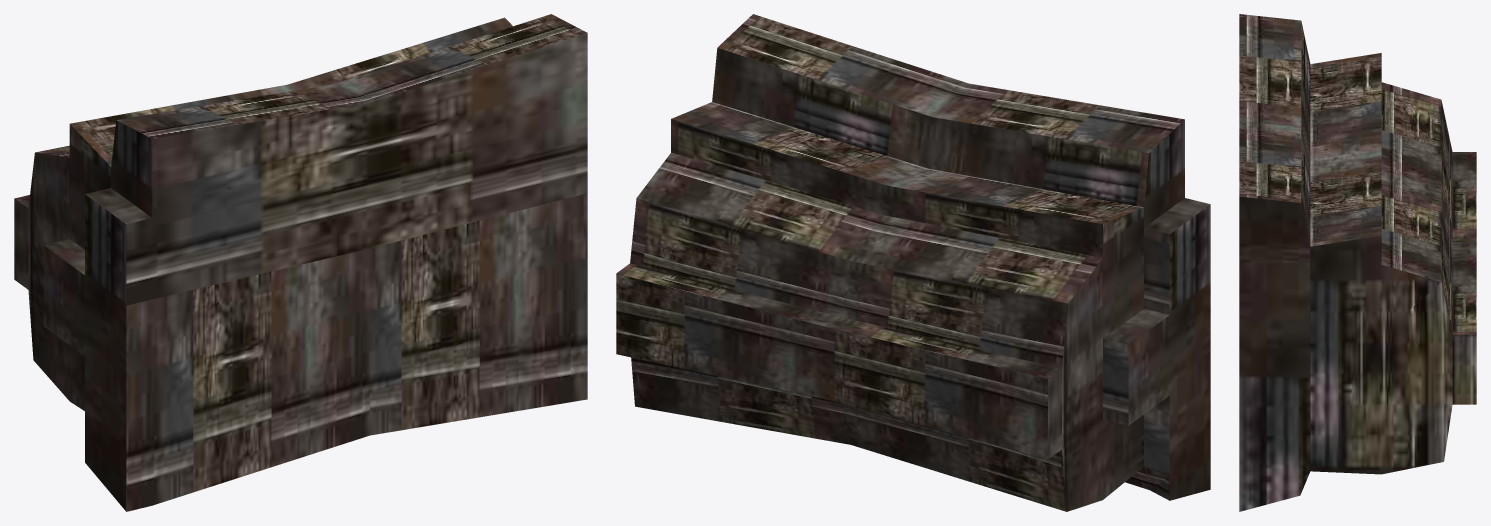
File: WoodSet.fbx
3 views of the same model, side by side, from view 1: azimuth 30°, elevation 25°; view 2: azimuth 150°, elevation 25°; view 3: azimuth 270°, elevation 25° (orthographic). The views are drawn at different scales.
Parts seen in each view (by area): view 1: Component1; view 2: Component1; view 3: Component1.
Part boxes in pixels (x1,y1,x2,y2): Component1: [14, 14, 587, 511]; Component1: [616, 14, 1210, 511]; Component1: [1239, 14, 1476, 511].
Bounding box in the file's own units: 499 × 379 × 258.
